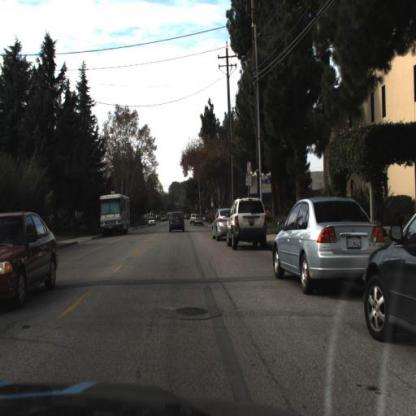car: (273, 195, 385, 298), (362, 203, 416, 351), (1, 211, 61, 320), (227, 197, 269, 249), (211, 207, 229, 244), (168, 212, 187, 235), (146, 214, 160, 231), (193, 213, 206, 231)
truck: (98, 194, 129, 238)
